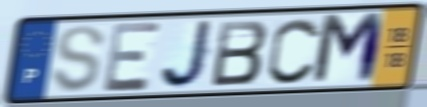B: (209, 18, 271, 89)
C: (265, 15, 324, 87)
E: (101, 19, 164, 95)
J: (158, 18, 217, 91)
M: (309, 10, 388, 88)
S: (49, 22, 108, 95)
